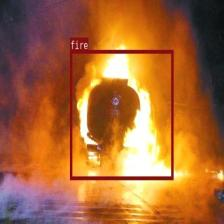fire: (69, 50, 172, 180)
